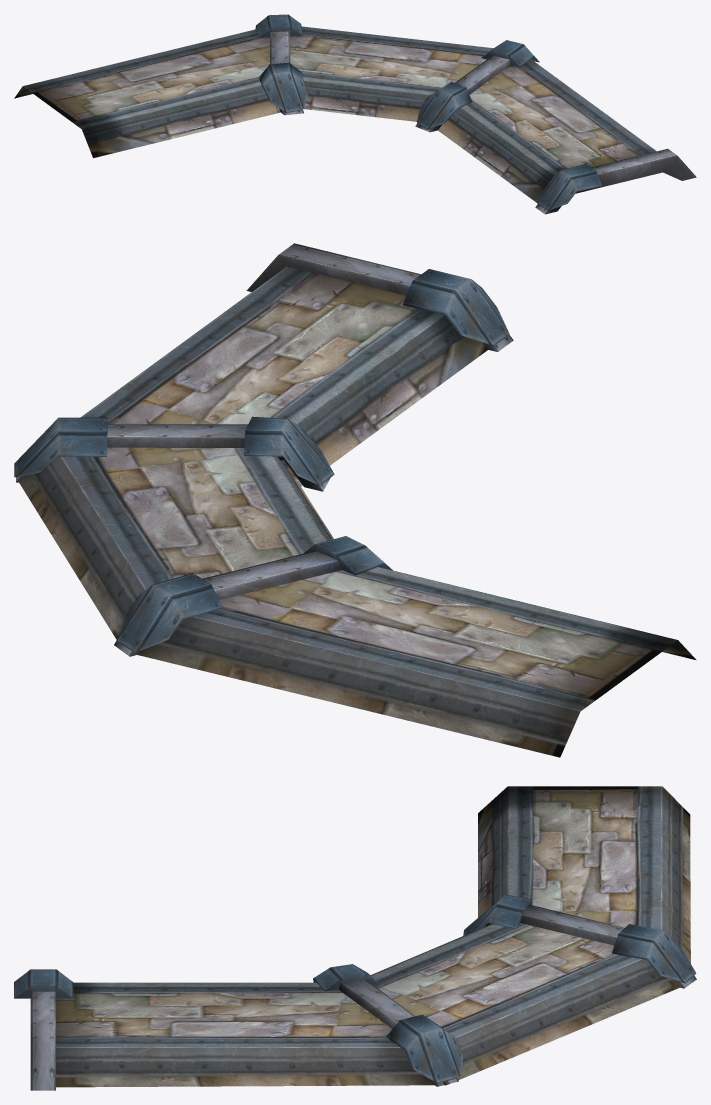
Rendered from obj_madaprroad90r.glb.
The picture shows the model from 3 angles, top to bottom: view 1: azimuth 30°, elevation 25°; view 2: azimuth 150°, elevation 25°; view 3: azimuth 270°, elevation 25°; orthographic projection. The views are drawn at different scales.
Parts seen in each view (by area): view 1: part_0; view 2: part_0; view 3: part_0.
Boxes of the visible parts, x1,y1,x2,y2 form: part_0: (14,14,696,214); part_0: (14,243,696,757); part_0: (14,786,696,1090).
Size of the model in its own units: 16.95 by 1.15 by 17.65.
1 material, 1 textured.
